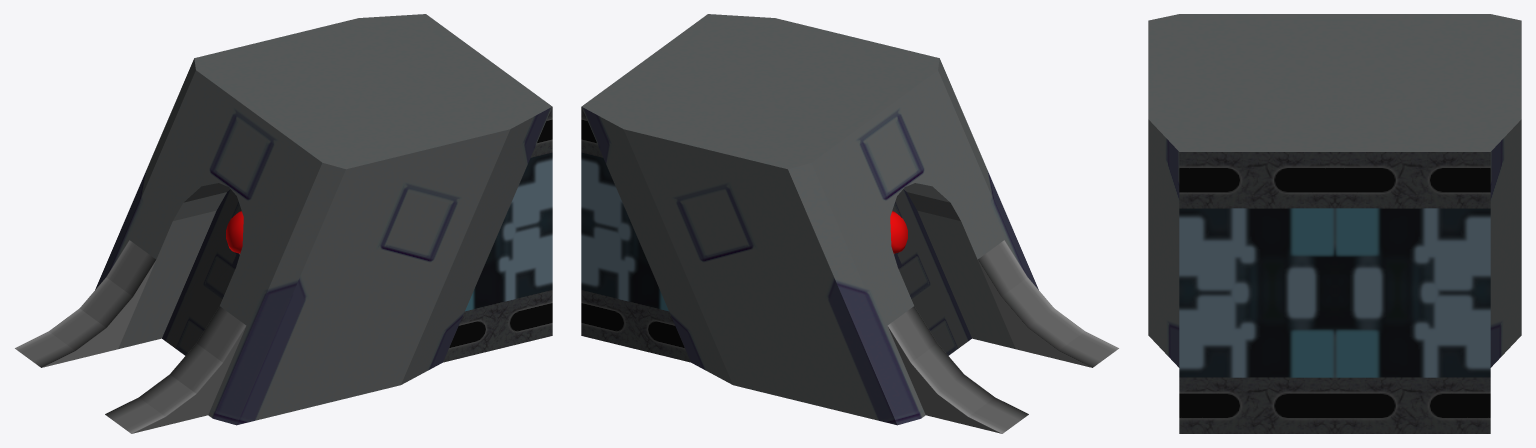
The model's file is tiles_prison_door_frame_right_0.glb.
3 renders of one model, left to right at view 1: azimuth 30°, elevation 25°; view 2: azimuth 150°, elevation 25°; view 3: azimuth 270°, elevation 25°, orthographic. The views are drawn at different scales.
Parts seen in each view (by area): view 1: PrisonDoorArchRight0; view 2: PrisonDoorArchRight0; view 3: PrisonDoorArchRight0.
Part boxes in pixels (left/top/right/bottom): PrisonDoorArchRight0: left=15, top=14, right=552, bottom=433; PrisonDoorArchRight0: left=581, top=14, right=1118, bottom=433; PrisonDoorArchRight0: left=1148, top=14, right=1521, bottom=433.
Size of the model in its own units: 3.8 by 2 by 2.4.
6 materials, 4 textured.
